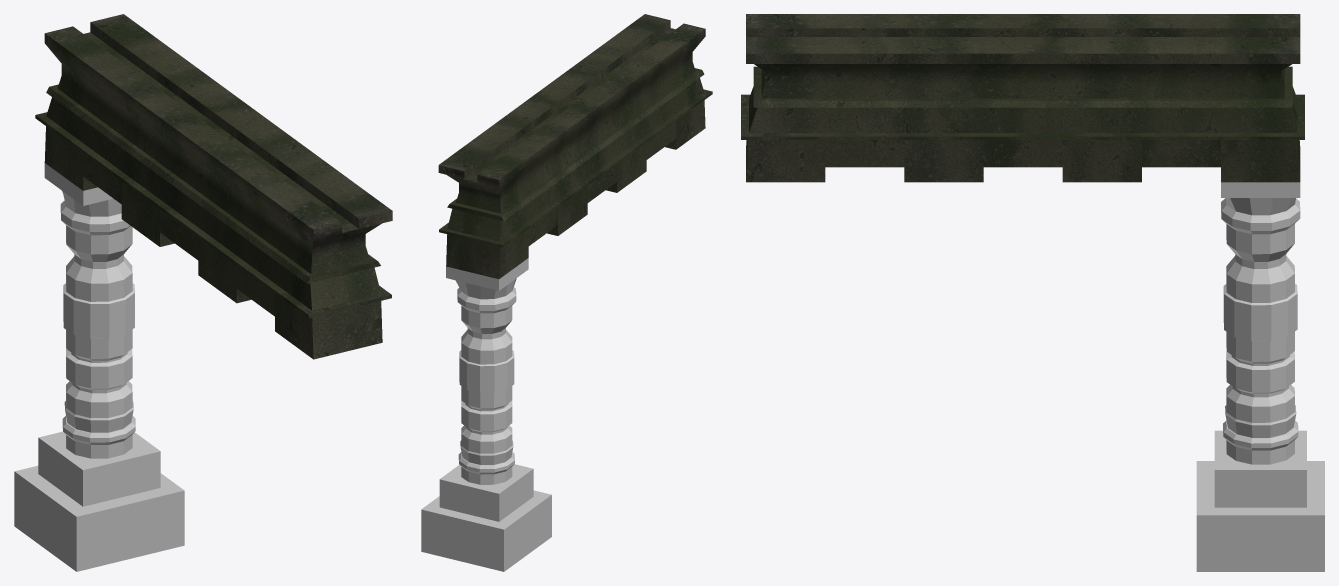
Rendered from ruin04.fbx.
3 renders of one model, left to right at view 1: azimuth 30°, elevation 25°; view 2: azimuth 150°, elevation 25°; view 3: azimuth 270°, elevation 25°, orthographic. The views are drawn at different scales.
Visible parts, largest first — view 1: pCube13; view 2: pCube13; view 3: pCube13.
Boxes of the visible parts, x1,y1,x2,y2 form: pCube13: (14,14,392,571); pCube13: (421,14,712,571); pCube13: (741,14,1324,571).
Size of the model in its own units: 116 by 509 by 525.
